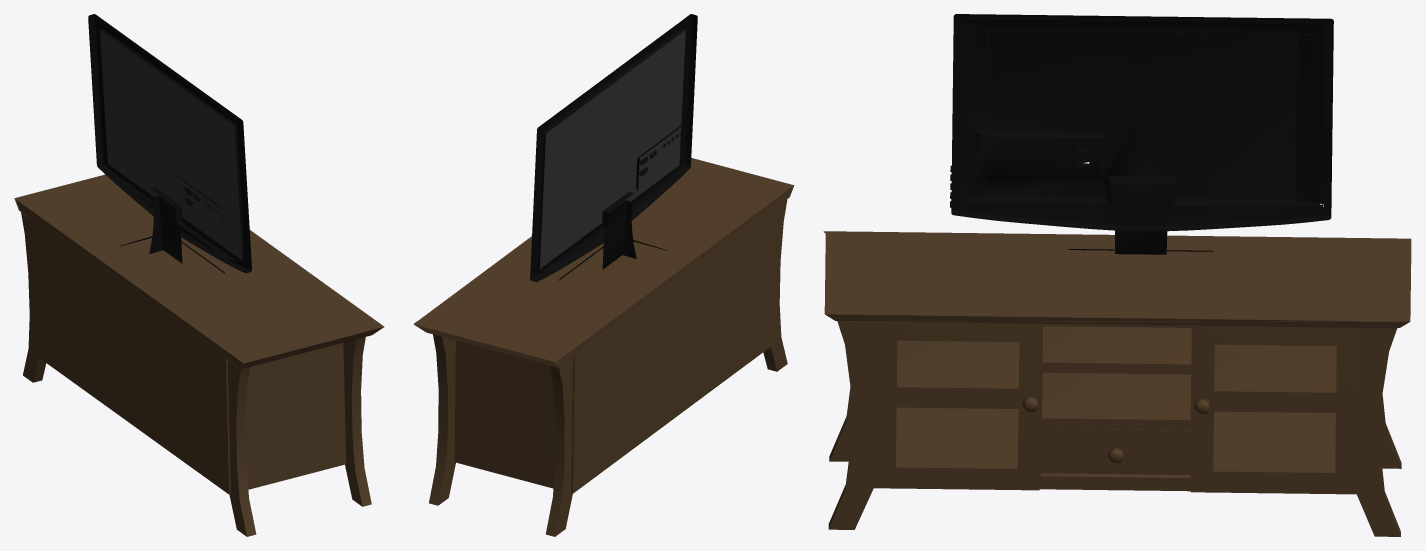
The picture shows the model from 3 angles, left to right: view 1: azimuth 30°, elevation 25°; view 2: azimuth 150°, elevation 25°; view 3: azimuth 270°, elevation 25°; orthographic projection. The views are drawn at different scales.
Parts seen in each view (by area): view 1: node_id38.004; view 2: node_id38.004; view 3: node_id38.004.
Part boxes in pixels (<box>): node_id38.004: <box>14,14,384,536</box>; node_id38.004: <box>413,14,794,536</box>; node_id38.004: <box>823,14,1411,536</box>.
Bounding box in the file's own units: 164 × 410 × 463.
